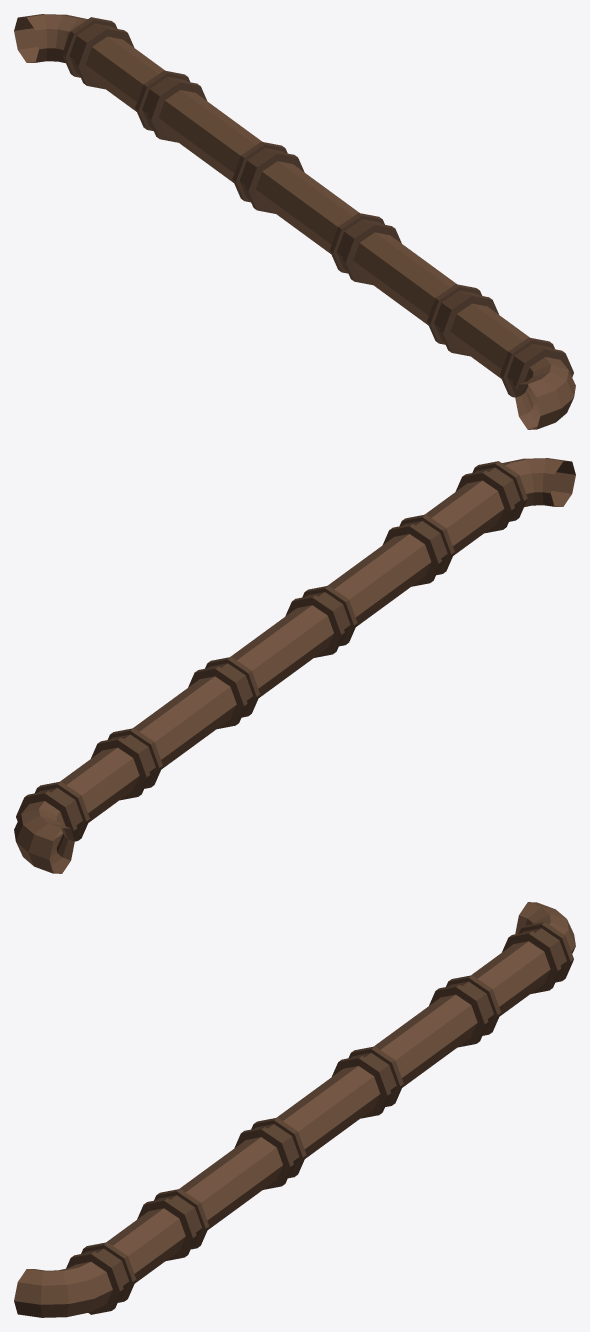
The model's file is apoc_SM_Prop_Pipes_Rusted_01.gltf.
3 views of the same model, one above another, from view 1: azimuth 30°, elevation 25°; view 2: azimuth 150°, elevation 25°; view 3: azimuth 330°, elevation 25° (orthographic).
Parts seen in each view (by area): view 1: SM_Prop_Pipes_Rusted_01; view 2: SM_Prop_Pipes_Rusted_01; view 3: SM_Prop_Pipes_Rusted_01.
Boxes of the visible parts, x1=… form: SM_Prop_Pipes_Rusted_01: x1=14, y1=14, x2=575, y2=429; SM_Prop_Pipes_Rusted_01: x1=14, y1=458, x2=575, y2=873; SM_Prop_Pipes_Rusted_01: x1=14, y1=902, x2=575, y2=1317.
Size of the model in its own units: 0.4985 by 0.4137 by 6.49.
Materials: 1 (1 with a texture image).
